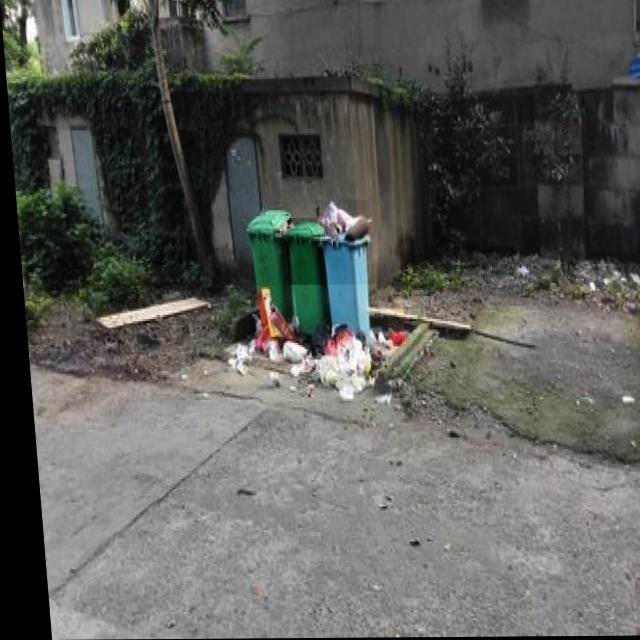garbage: (217, 285, 404, 402)
garbage_bin: (280, 219, 323, 329)
overflow: (313, 200, 373, 331), (239, 206, 292, 317)
